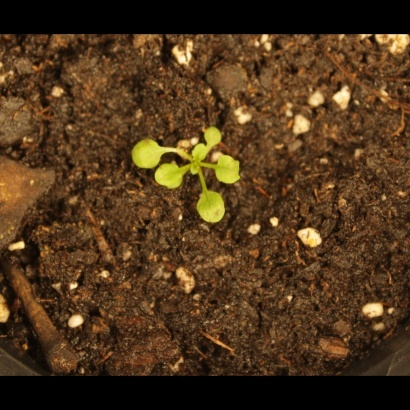leaf: (126, 138, 169, 170), (194, 190, 230, 226), (212, 152, 245, 188), (153, 159, 187, 192), (198, 121, 231, 149), (181, 138, 214, 165)
